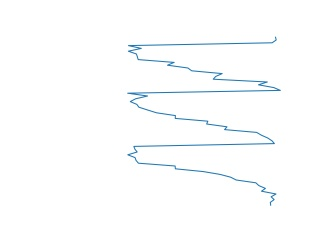distributaryMouthBar: (126, 34, 281, 207)
